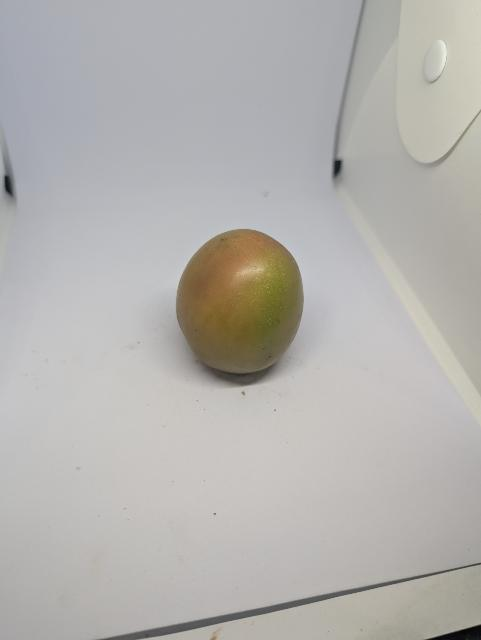breaker: (177, 229, 304, 374)
